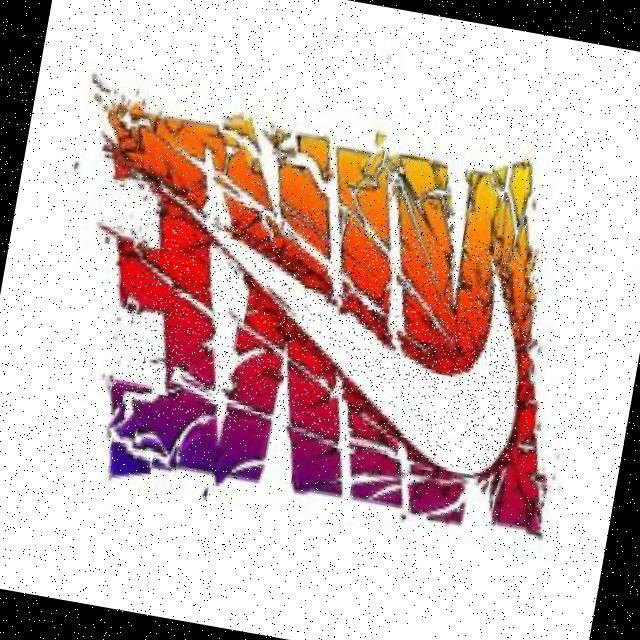Nike: (110, 182, 548, 478)
